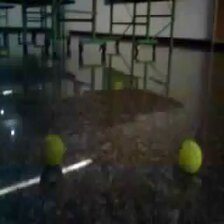tennis: (178, 139, 203, 174), (40, 134, 66, 166)
